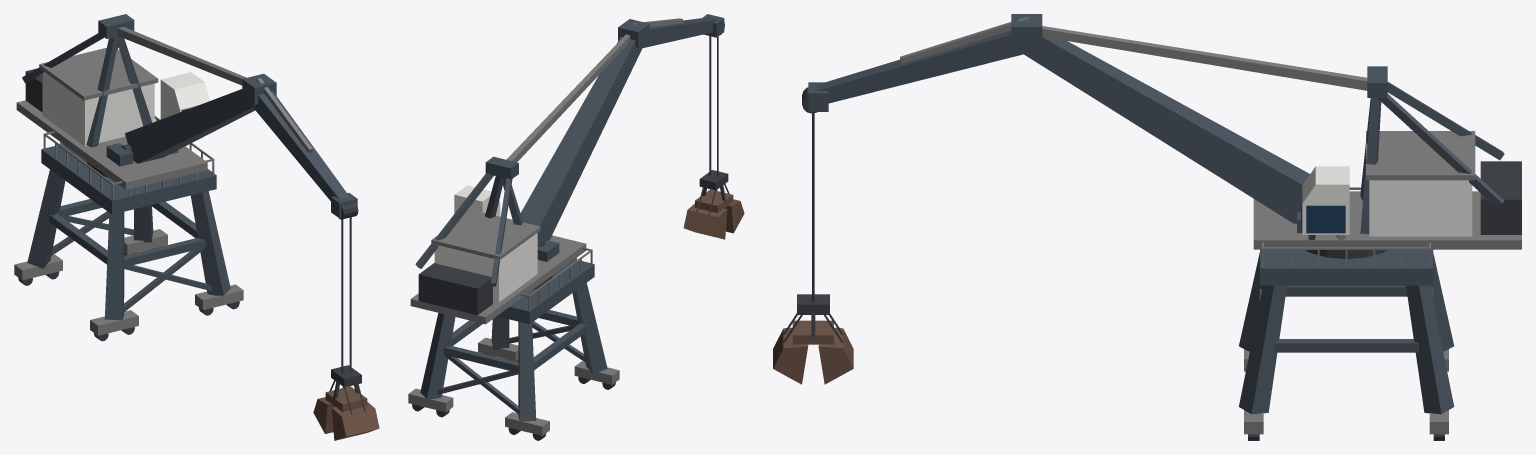
Rendered from port_crane.fbx.
The picture shows the model from 3 angles, left to right: view 1: azimuth 30°, elevation 25°; view 2: azimuth 150°, elevation 25°; view 3: azimuth 270°, elevation 25°; orthographic projection. The views are drawn at different scales.
Visible parts, largest first — view 1: a401.PortCrane; view 2: a401.PortCrane; view 3: a401.PortCrane.
Boxes of the visible parts, <box> form: a401.PortCrane: <box>14,14,379,440</box>; a401.PortCrane: <box>408,14,744,440</box>; a401.PortCrane: <box>773,14,1521,440</box>.
Bounding box in the file's own units: 8 × 16.4 × 29.04.
